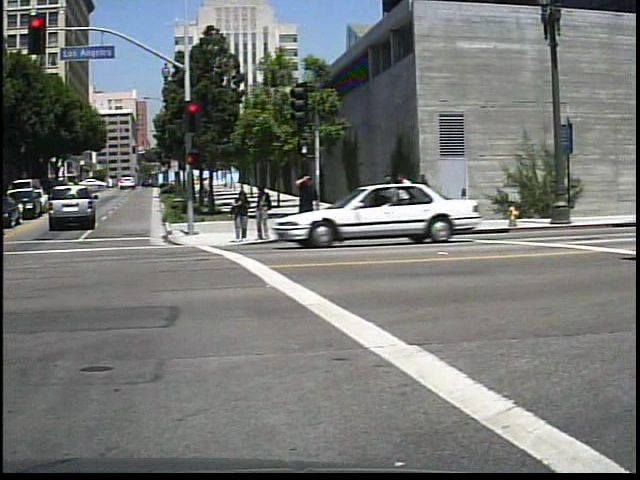person: (234, 190, 257, 242), (299, 175, 324, 216)
